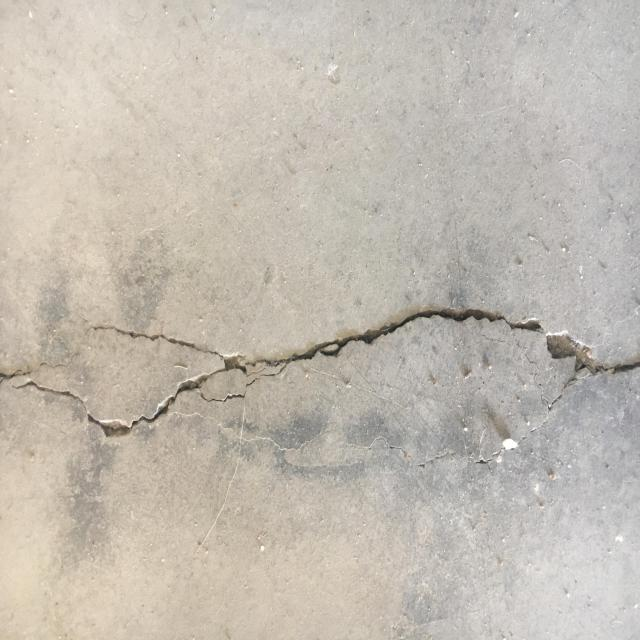Crack: (16, 374, 197, 443), (336, 301, 546, 357), (187, 337, 341, 409), (89, 320, 247, 375), (544, 320, 640, 391), (0, 352, 74, 384)
